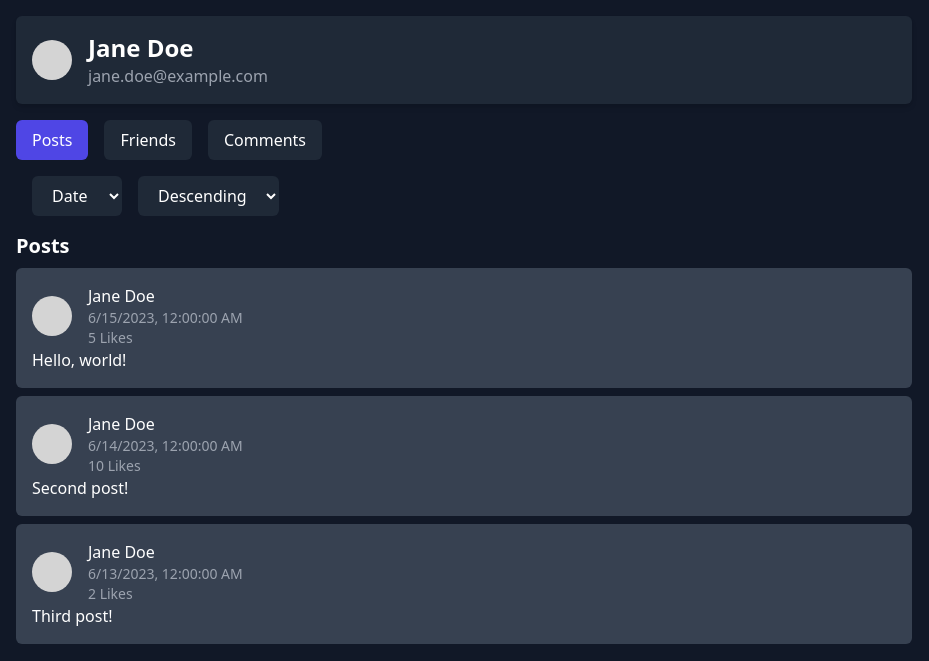
Test: UserProfile › renders user comments
# Click the comments tab button
Click the button "Comments" at (265, 140), box [208,120,322,160]
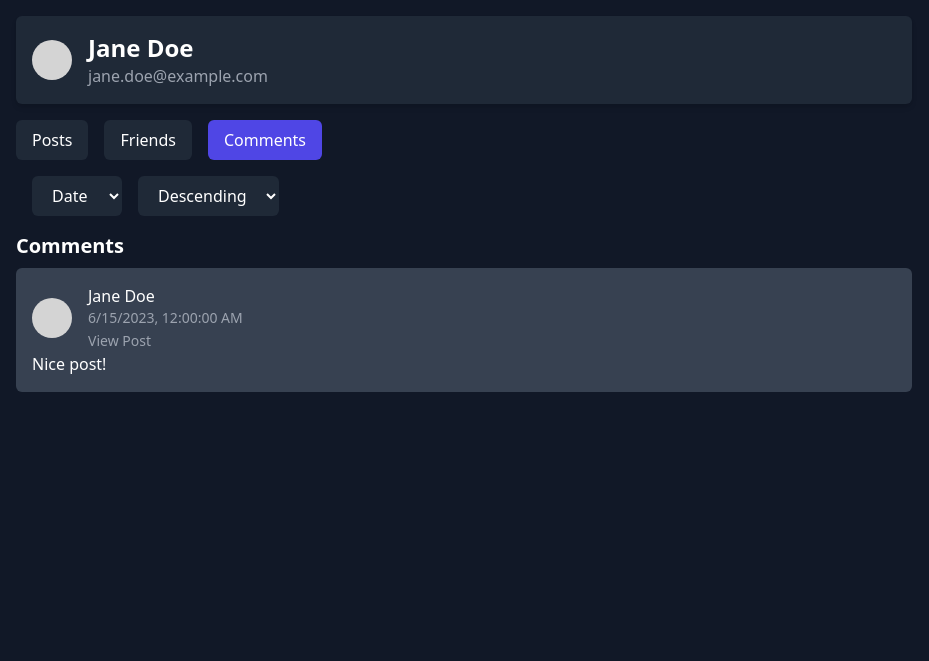
Result: the text "Nice post!" is shown at [32,353,106,375]
